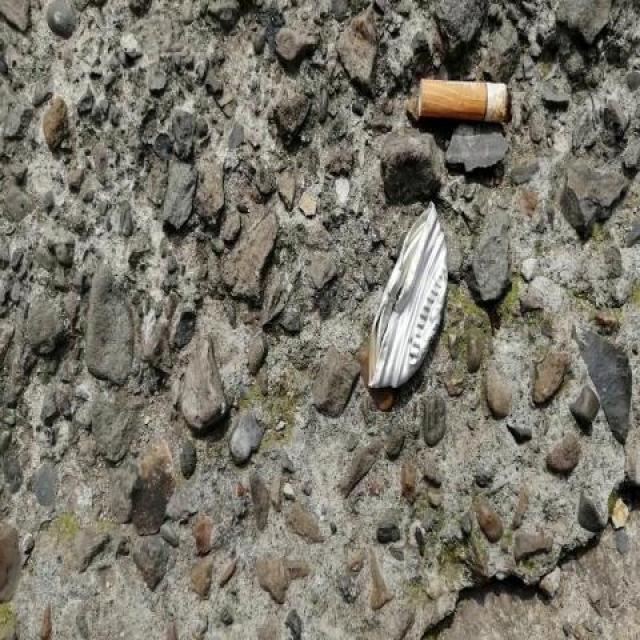non-organic waste: (411, 72, 514, 133)
